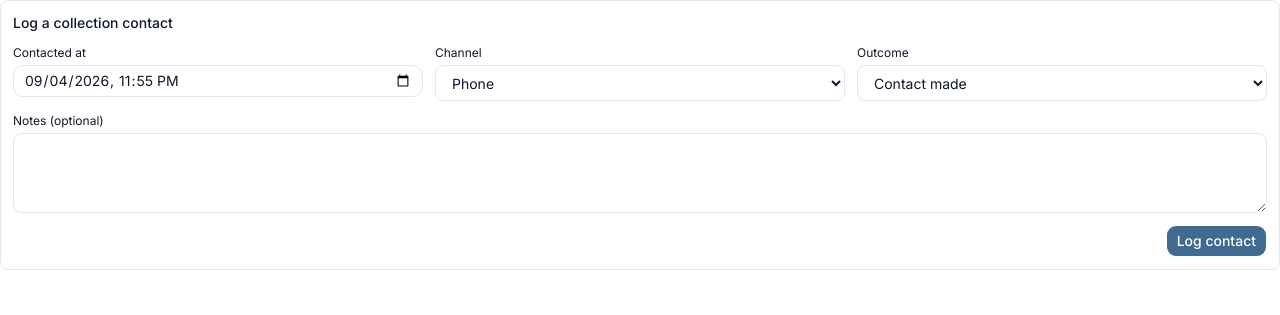
Test: LogCollectionContactForm › surfaces a 400 as a human-readable error
The image size is (1280, 315).
Click the button with test id "log-contact-submit".
click(1216, 241)  # box [1166, 225, 1267, 257]
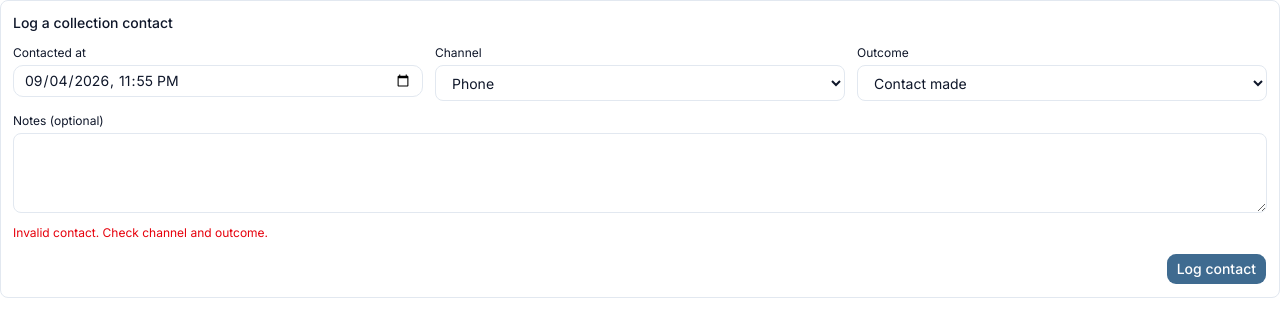
expect the text with test id "log-contact-error" shows "Invalid contact": met, box [13, 225, 268, 240]
